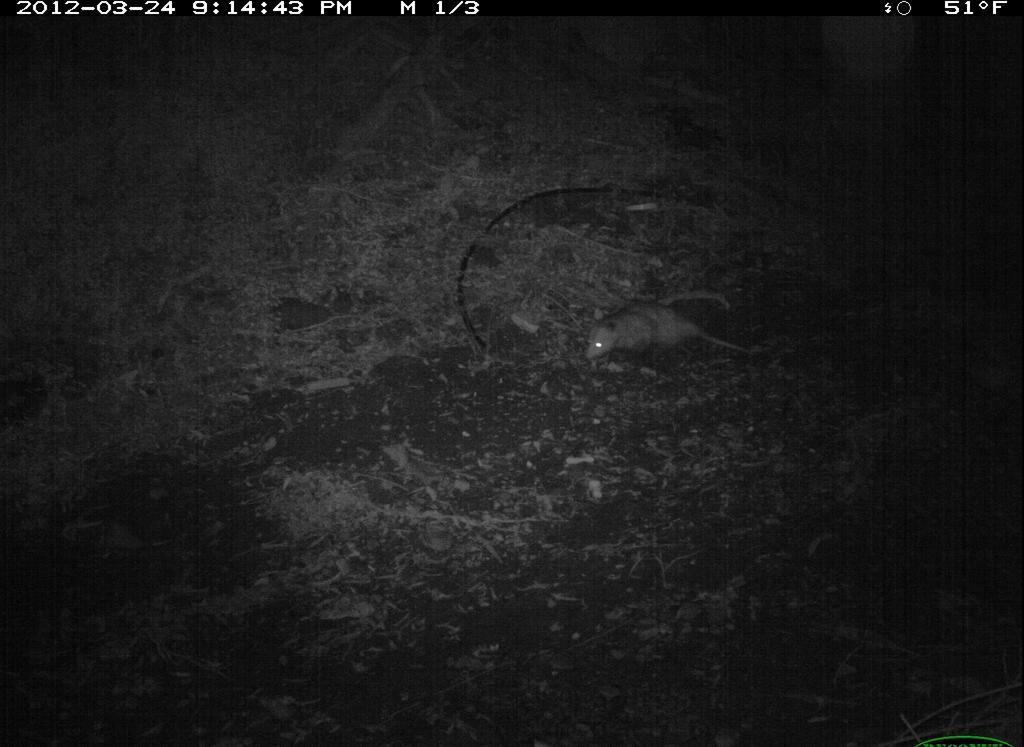opossum: (573, 296, 772, 376)
